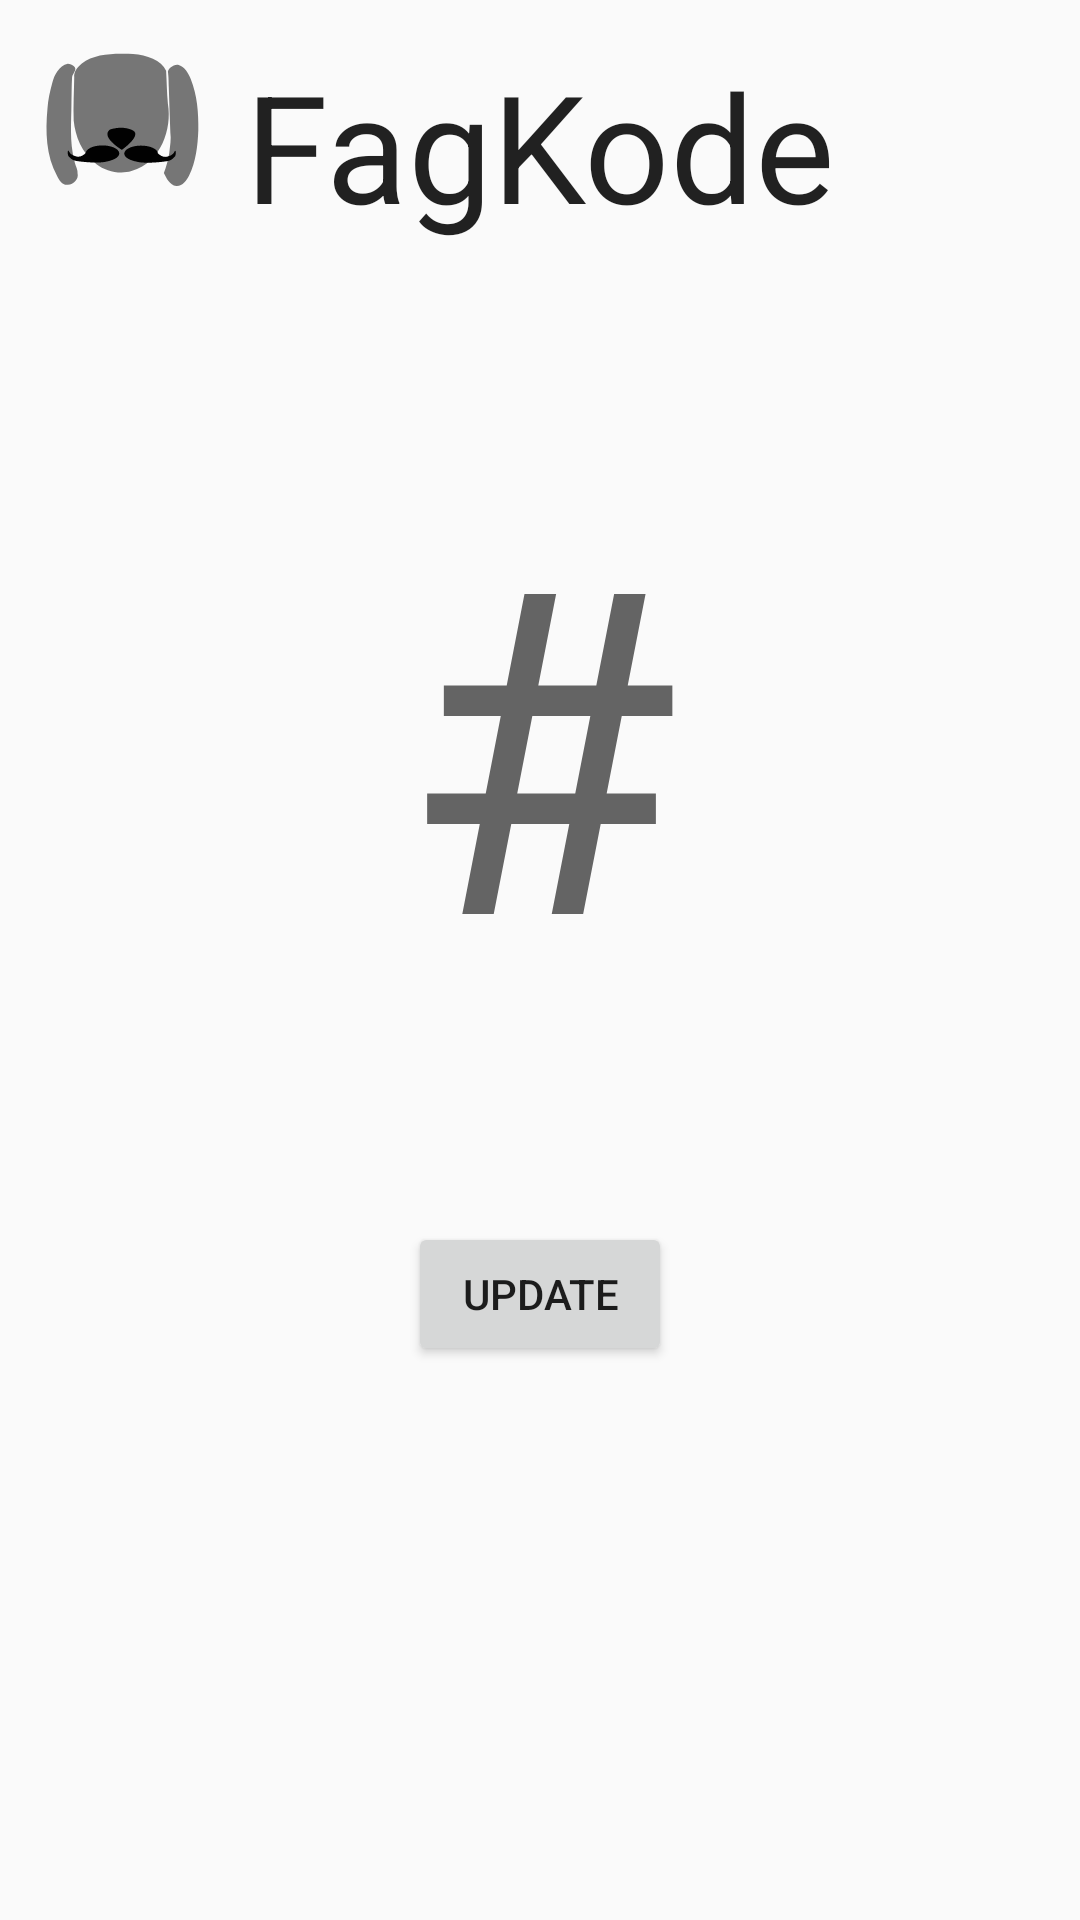

Where icons sit on this 1080px x 1920px app screen, as BBox(x1, y1, x2, y2):
doggo: BBox(46, 53, 199, 186)
